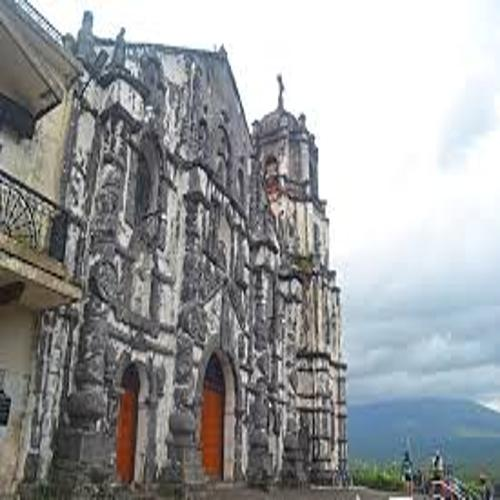Daraga Church: (57, 4, 352, 494)
